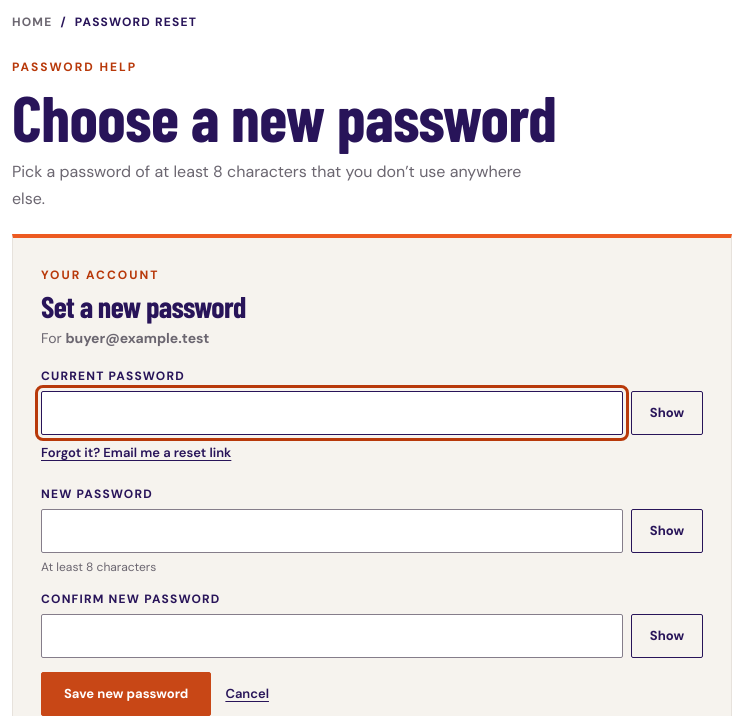
Test case: ResetPasswordPage, signed in without a reset link (AW-349) › says when the other devices could not be signed out, and where to do it
Type "old-pass-1" into the password field labelled "Current password" at (332, 413), box x1=41 y1=391 x2=623 y2=435
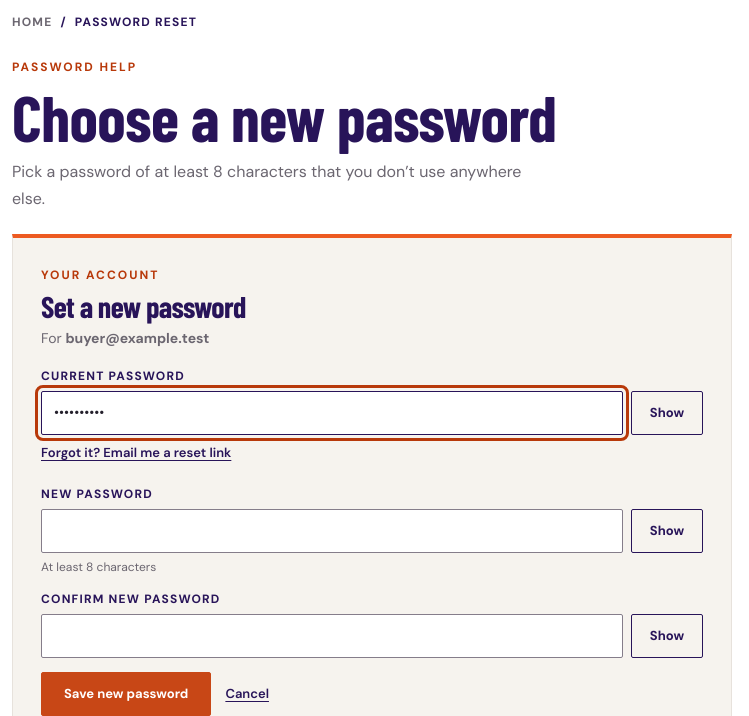
Type "new-pass-123" into the password field labelled "New password" at (332, 531), box x1=41 y1=509 x2=623 y2=553
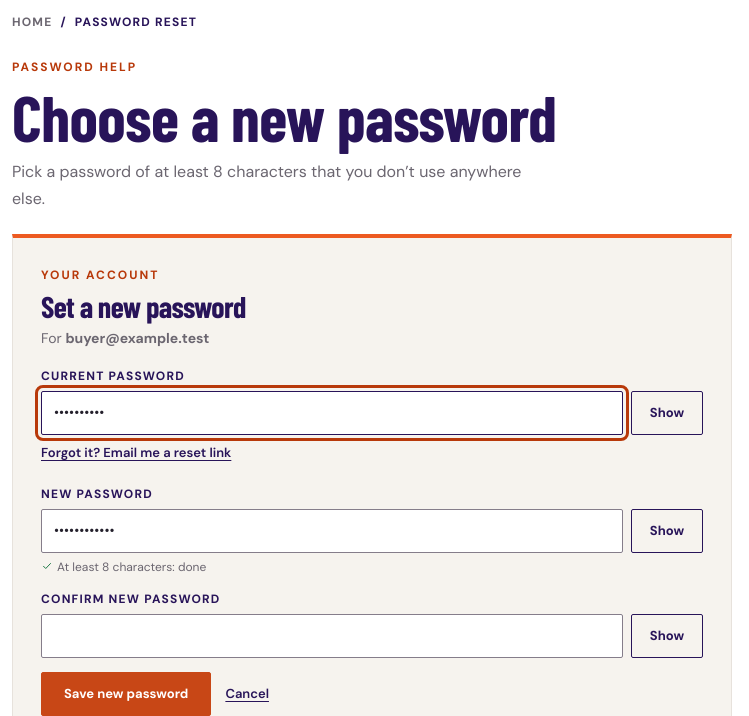
Type "new-pass-123" into the password field labelled "Confirm new password" at (332, 636), box x1=41 y1=614 x2=623 y2=658
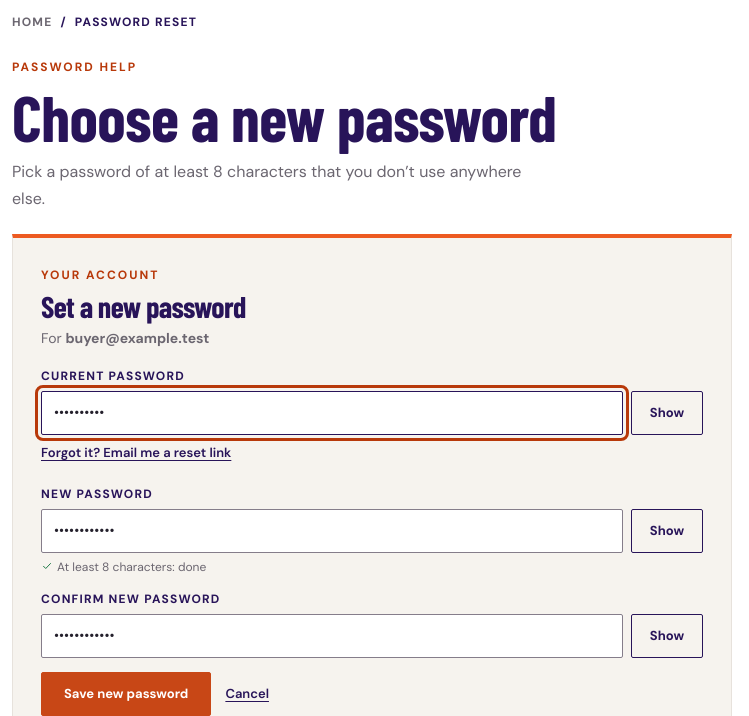
Click the button "Save new password" at (126, 694), box x1=41 y1=672 x2=211 y2=715
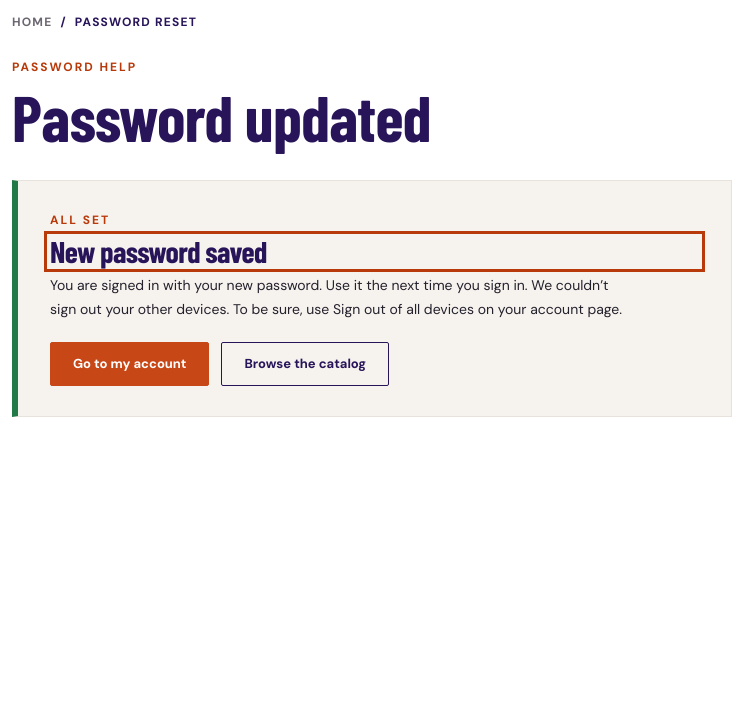
expect the heading "Password updated" is shown: met, box x1=12 y1=78 x2=431 y2=155
expect the text "We couldn’t sign out your other devices. To be sure, use Sign out of all devices on your account page." is shown: met, box x1=50 y1=276 x2=622 y2=318
